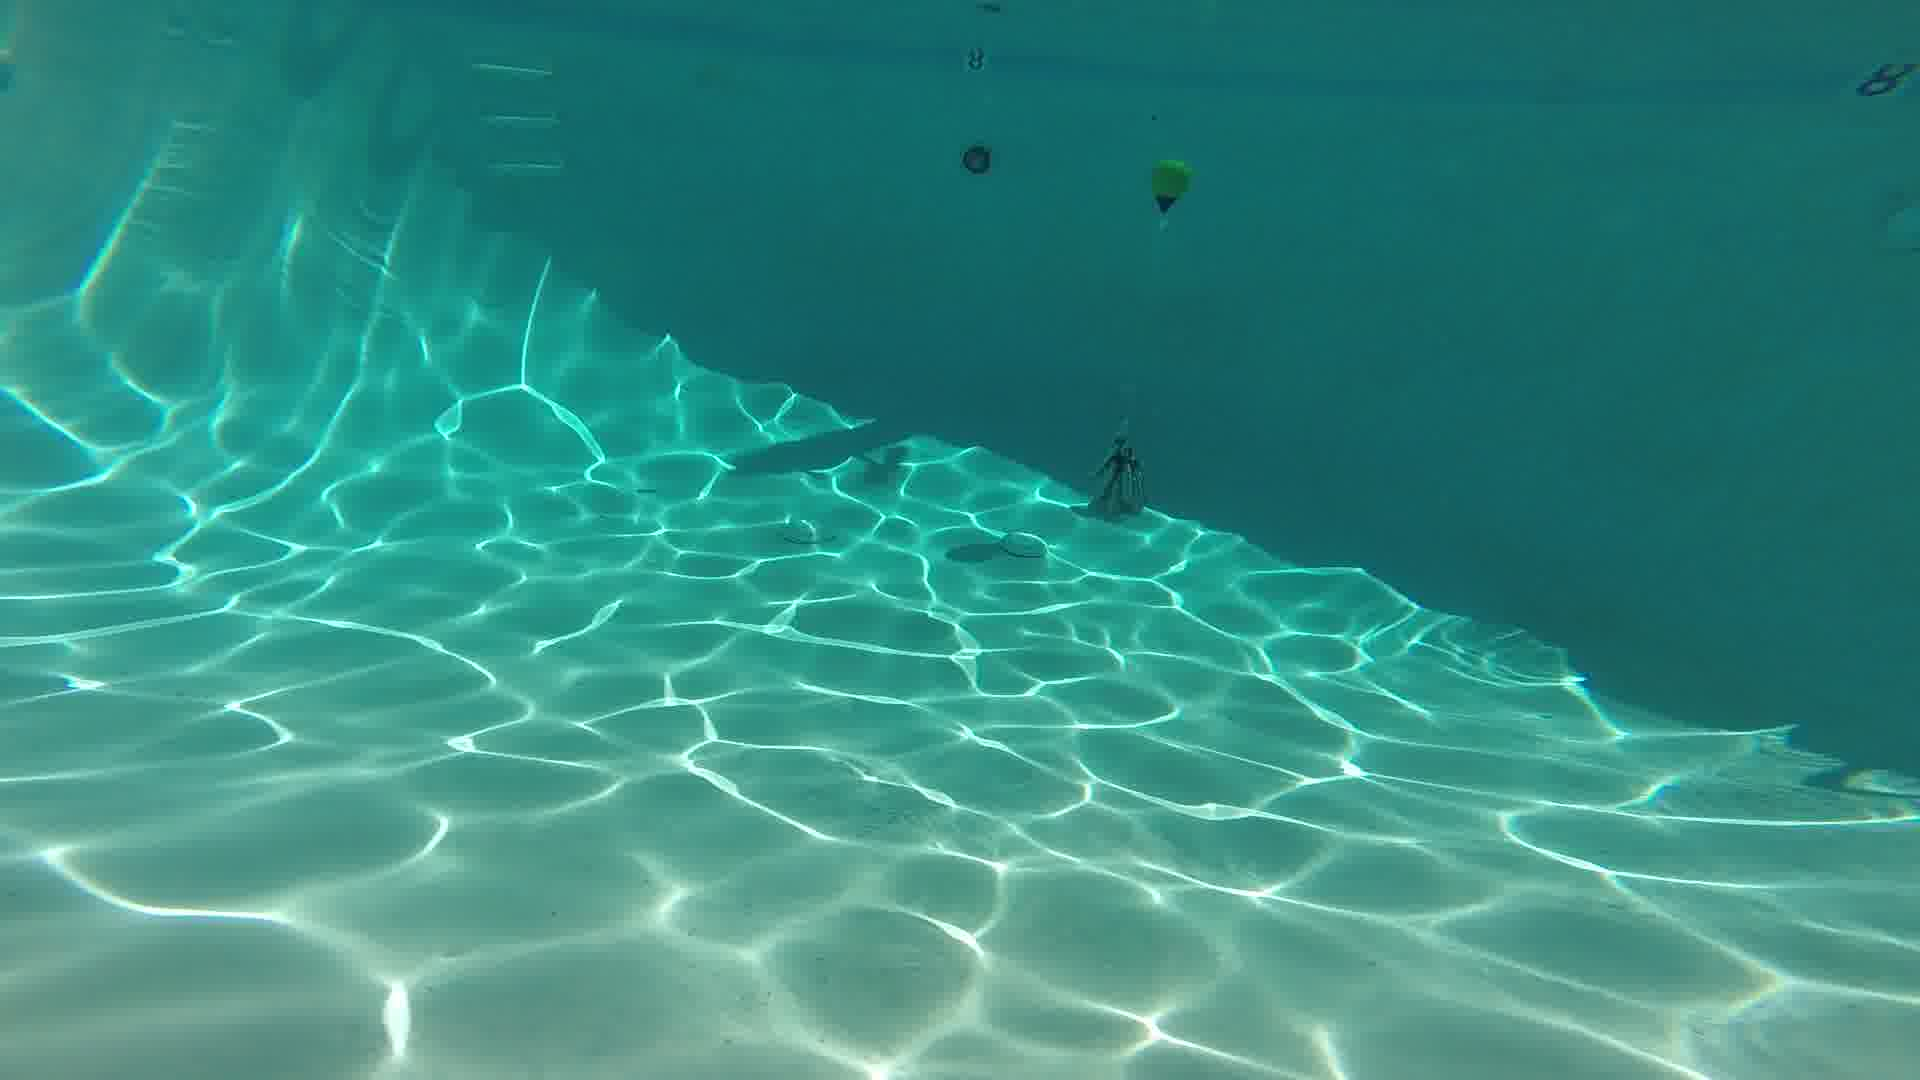yellow_buoy: (1149, 157, 1189, 212)
